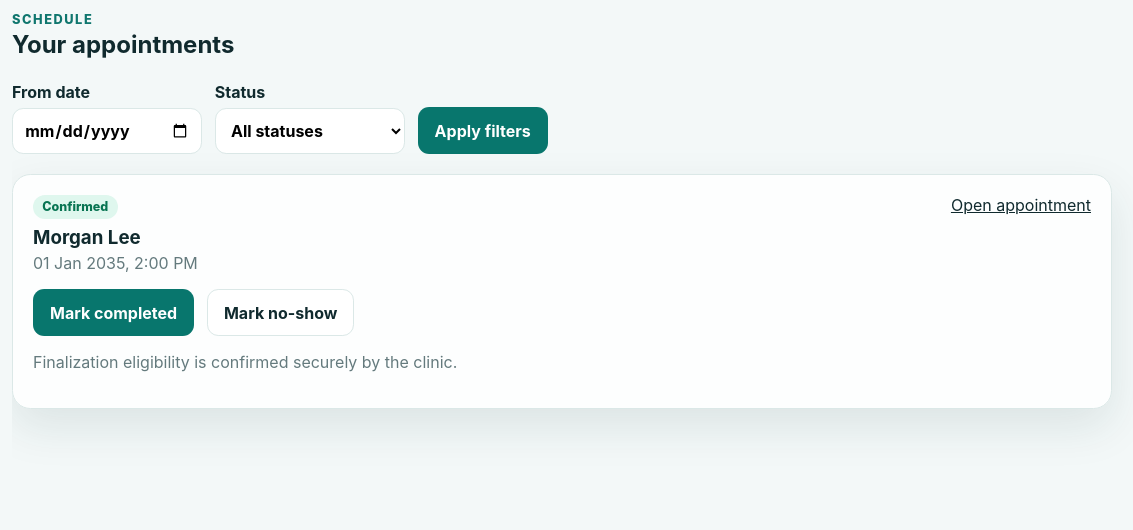
Scenario: schedule shows backend early-completion rejection without false completion feedback
The width and height of the screenshot is (1133, 530).
Click the button "Mark completed" at (114, 312), box [33,289,194,336]
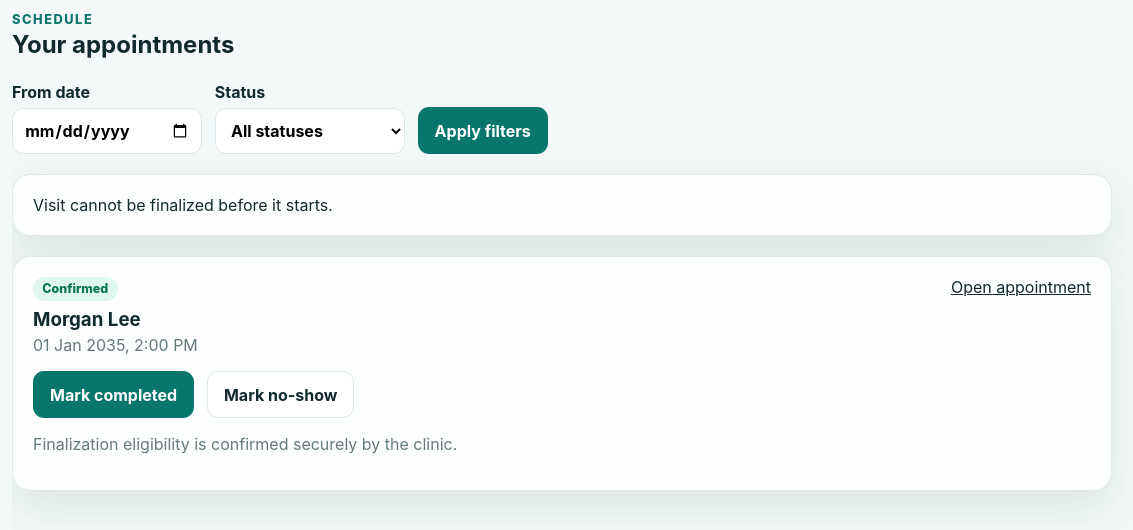
Check: the text "Visit cannot be finalized before it starts." is shown, box [12,174,1112,236]
